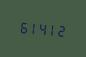four: (38, 19, 47, 37)
one: (28, 18, 37, 36), (48, 20, 57, 38)
six: (18, 17, 27, 35)
two: (58, 21, 67, 39)
